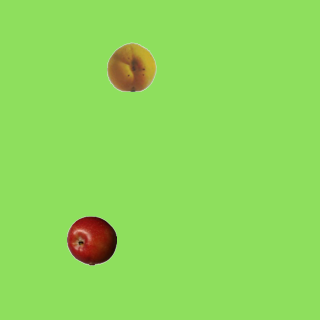Apple Braeburn: (66, 215, 116, 265)
Peach 2: (106, 41, 156, 91)
